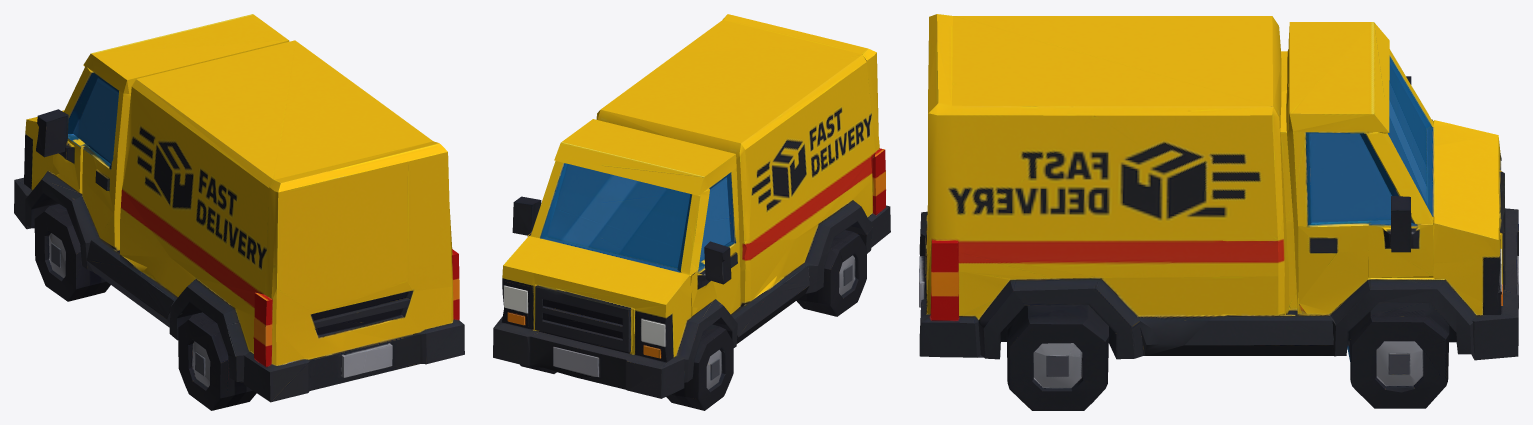
Rendered from Van_Body.obj.
3 renders of one model, left to right at view 1: azimuth 30°, elevation 25°; view 2: azimuth 150°, elevation 25°; view 3: azimuth 270°, elevation 25°, orthographic. The views are drawn at different scales.
Visible parts, largest first — view 1: Van_Body; view 2: Van_Body; view 3: Van_Body.
Boxes of the visible parts, <box> form: Van_Body: <box>14,14,464,410</box>; Van_Body: <box>493,14,890,410</box>; Van_Body: <box>919,14,1518,410</box>.
Bounding box in the file's own units: 7.23 × 7.25 × 13.5.
1 material, 1 textured.
